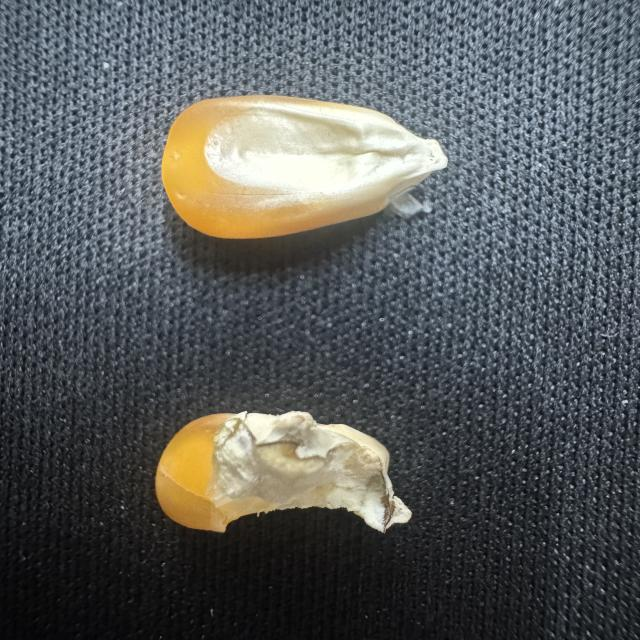Bad-Seed: (142, 402, 421, 547)
Good-Seed: (157, 91, 450, 245)
